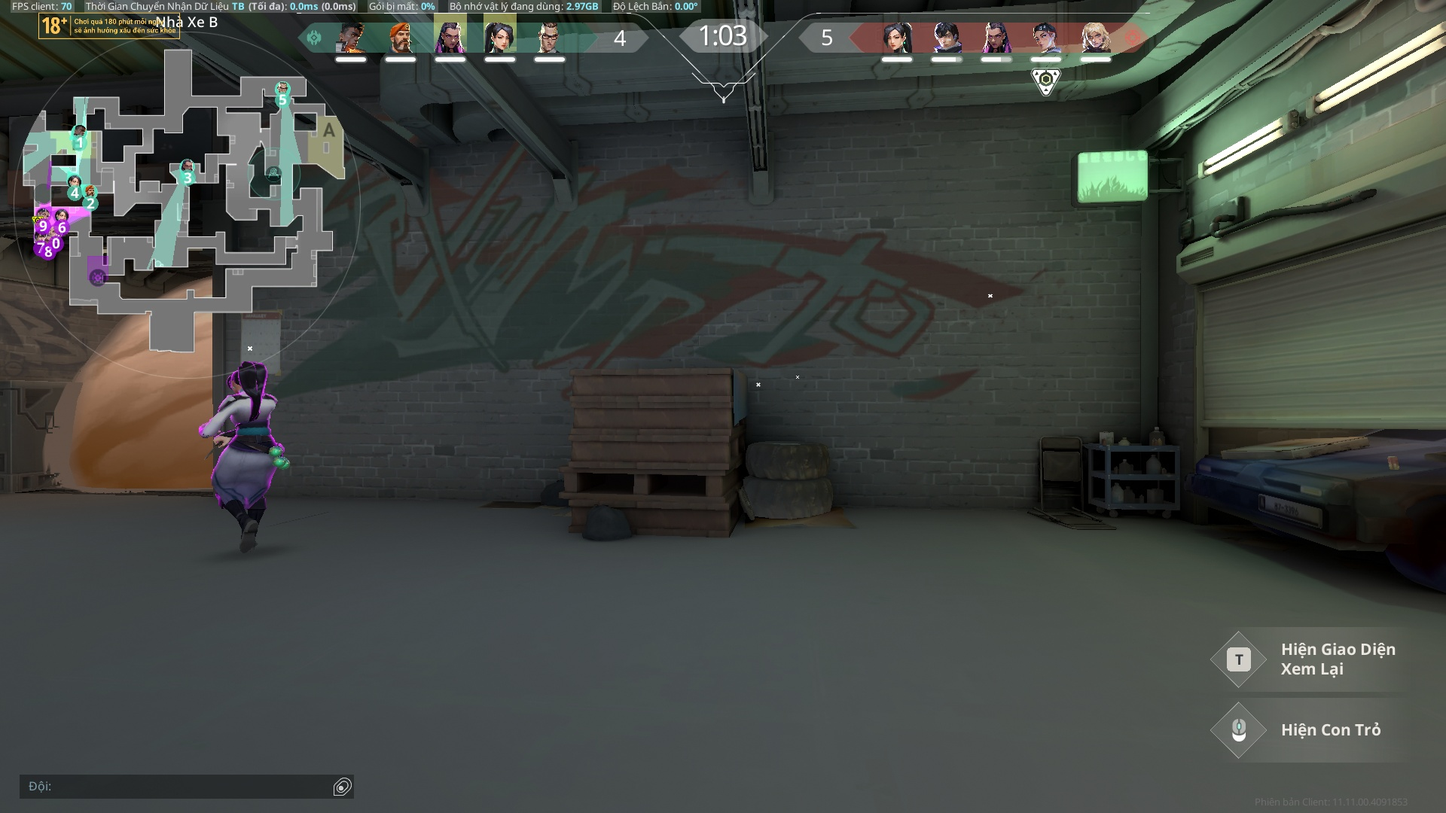body: (225, 394, 279, 437)
head: (229, 372, 256, 391)
